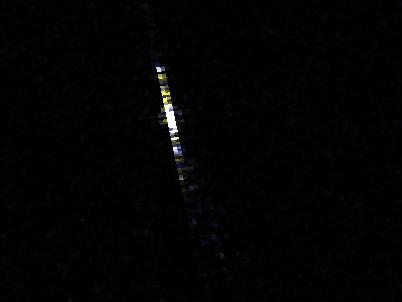ship: (154, 66, 187, 164)
